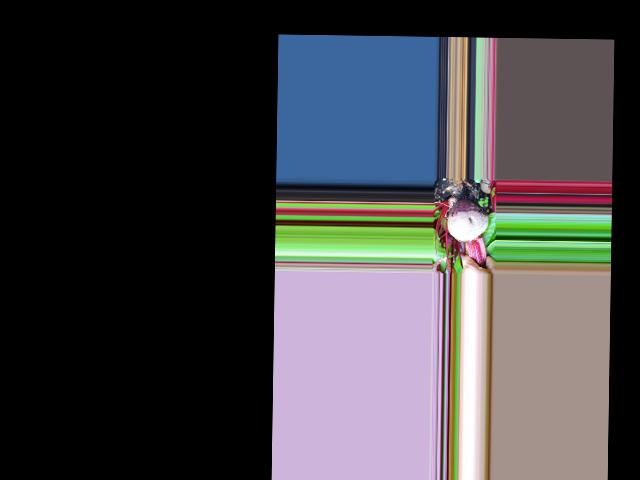beet: (446, 178, 488, 268)
